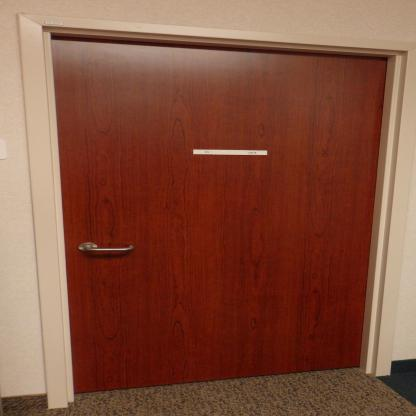door: (64, 44, 363, 393)
lever: (81, 245, 136, 259)
